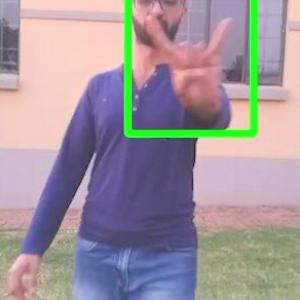takeoff-hand: (142, 1, 241, 124)
